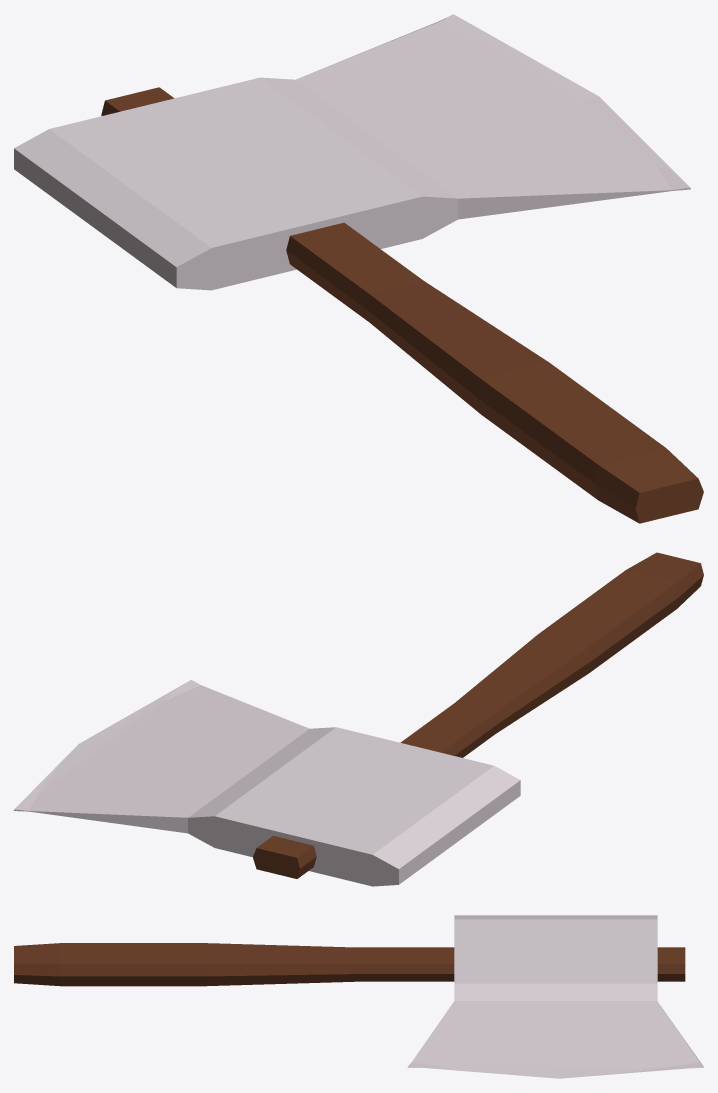
Rendered from Hacha.glb.
The picture shows the model from 3 angles, top to bottom: view 1: azimuth 30°, elevation 25°; view 2: azimuth 150°, elevation 25°; view 3: azimuth 270°, elevation 25°; orthographic projection. The views are drawn at different scales.
Parts seen in each view (by area): view 1: Cube; view 2: Cube; view 3: Cube.
Part boxes in pixels (bbox=[...]): Cube: bbox=[14, 14, 703, 523]; Cube: bbox=[14, 552, 703, 886]; Cube: bbox=[14, 915, 703, 1078].
Bounding box in the file's own units: 1.07 × 0.0853 × 2.01.
